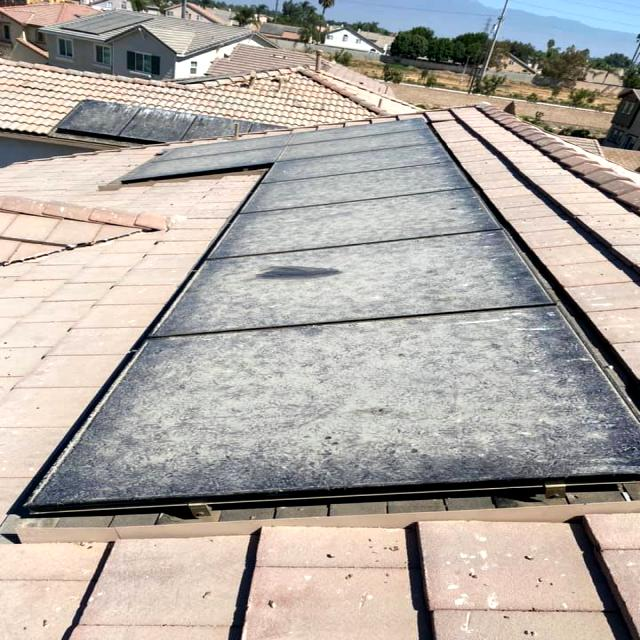dust: (158, 302, 568, 484), (242, 232, 496, 301), (152, 115, 410, 173), (267, 159, 454, 235)
